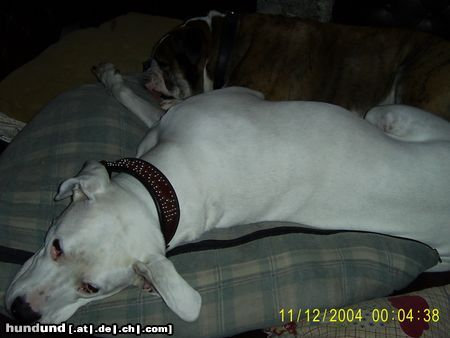dogo_argentino: (0, 63, 450, 324)
other_dog_breed: (140, 13, 449, 111)
